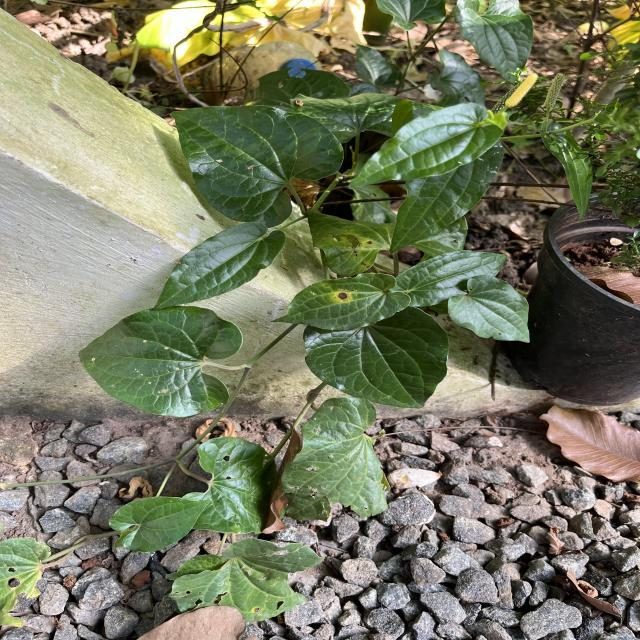Piper longum: (167, 103, 346, 230), (77, 304, 245, 419), (302, 304, 450, 409), (105, 494, 214, 554), (446, 273, 532, 344)
